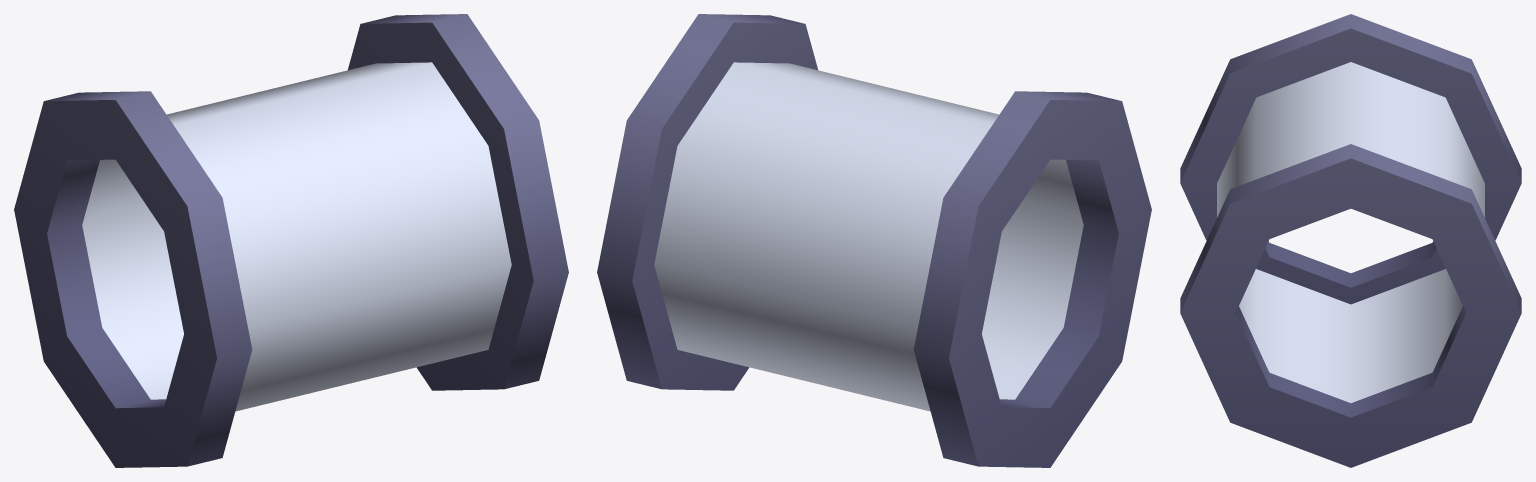
Rendered from kenney-factory-pipe-glass-large.glb.
3 views of the same model, side by side, from view 1: azimuth 30°, elevation 25°; view 2: azimuth 150°, elevation 25°; view 3: azimuth 270°, elevation 25° (orthographic). The views are drawn at different scales.
Visible parts, largest first — view 1: pipe-glass-large; view 2: pipe-glass-large; view 3: pipe-glass-large.
Boxes of the visible parts, x1,y1,x2,y2 form: pipe-glass-large: [14, 14, 568, 467]; pipe-glass-large: [597, 14, 1151, 467]; pipe-glass-large: [1180, 14, 1521, 467].
Bounding box in the file's own units: 1.5 × 1.5 × 1.5.
Materials: 2 (1 with a texture image).
